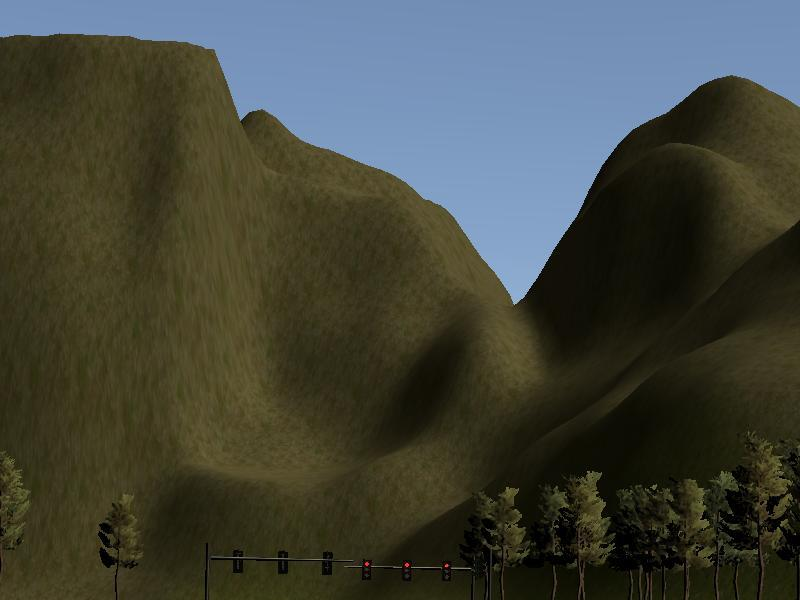Red: (401, 558, 413, 582), (362, 557, 373, 583), (441, 559, 452, 583)
